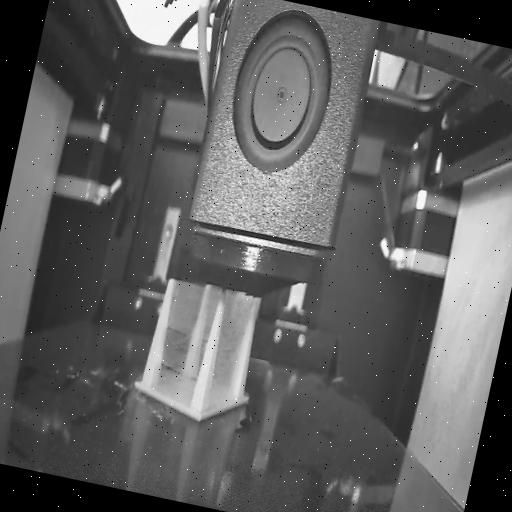stringing: (148, 278, 218, 410), (204, 288, 258, 416)
